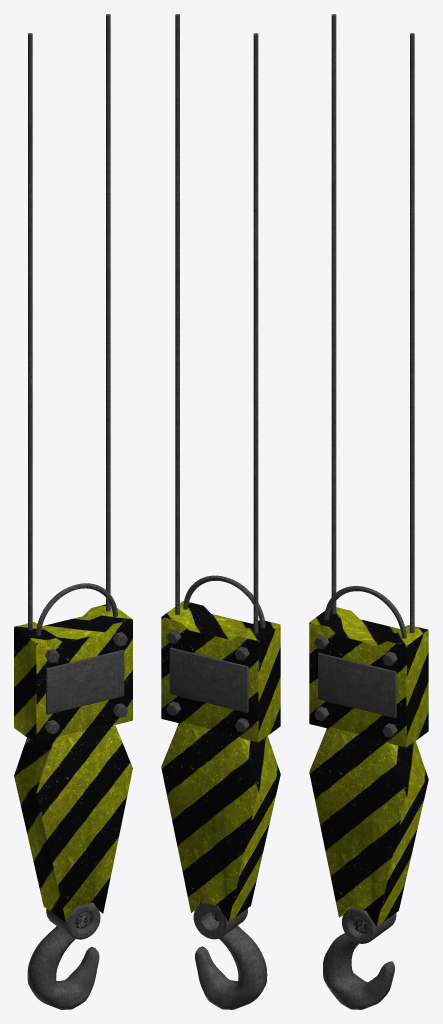
The model's file is Crane.fbx.
3 views of the same model, side by side, from view 1: azimuth 30°, elevation 25°; view 2: azimuth 150°, elevation 25°; view 3: azimuth 330°, elevation 25° (orthographic).
Parts seen in each view (by area): view 1: Metal_Body_1, Wires, Heavy_Handle_1, Cube, Top_Handle; view 2: Metal_Body_1, Wires, Heavy_Handle_1, Cube, Top_Handle; view 3: Metal_Body_1, Wires, Heavy_Handle_1, Cube, Top_Handle.
Boxes of the visible parts, box(x1,y1,x2,y2) form: Metal_Body_1: box(14, 604, 132, 922); Wires: box(28, 14, 110, 630); Heavy_Handle_1: box(27, 903, 100, 1009); Cube: box(46, 650, 124, 714); Top_Handle: box(36, 583, 117, 635); Metal_Body_1: box(161, 601, 280, 921); Wires: box(175, 14, 258, 633); Heavy_Handle_1: box(193, 902, 267, 1009); Cube: box(169, 647, 248, 712); Top_Handle: box(183, 575, 265, 628); Metal_Body_1: box(309, 607, 428, 926); Wires: box(331, 14, 414, 633); Heavy_Handle_1: box(323, 907, 396, 1009); Cube: box(318, 653, 396, 717); Top_Handle: box(324, 586, 406, 638).
Bounding box in the file's own units: 50.05 × 479 × 27.
Materials: 1 (1 with a texture image).
